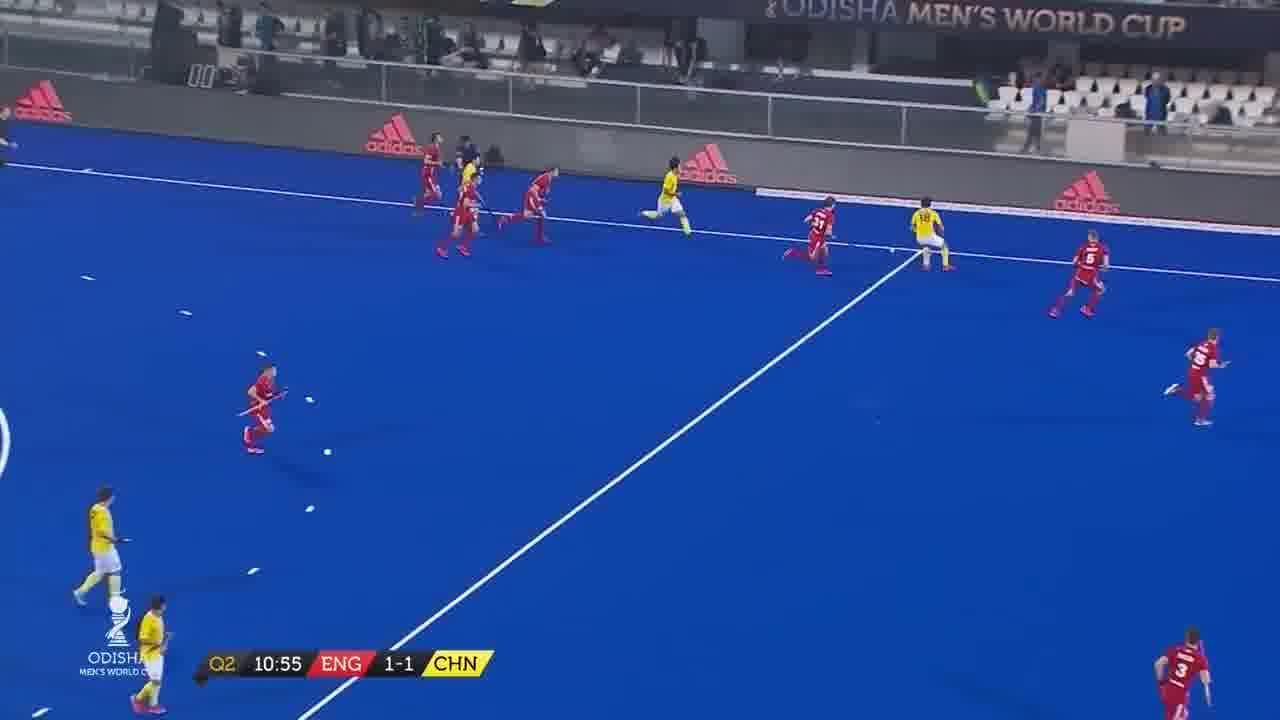ball: (890, 248, 904, 258)
